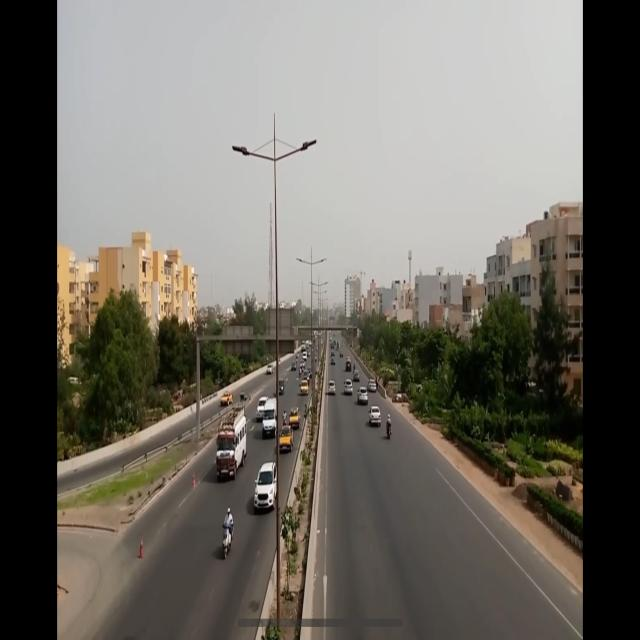moto: (222, 522, 235, 560), (387, 421, 393, 441), (283, 415, 288, 428)
ndiaga ndiaye: (217, 407, 248, 479)
particulier: (255, 460, 279, 514), (257, 395, 269, 423), (369, 405, 383, 428), (358, 387, 369, 408), (275, 379, 286, 399), (344, 378, 354, 397), (368, 379, 378, 395), (329, 381, 337, 397), (266, 364, 275, 377), (304, 370, 311, 385), (347, 358, 353, 375), (354, 370, 361, 382), (292, 361, 298, 374), (301, 359, 306, 369), (332, 356, 336, 365)
taxi: (280, 425, 295, 455), (221, 390, 235, 410), (290, 406, 301, 431), (300, 379, 310, 395)
